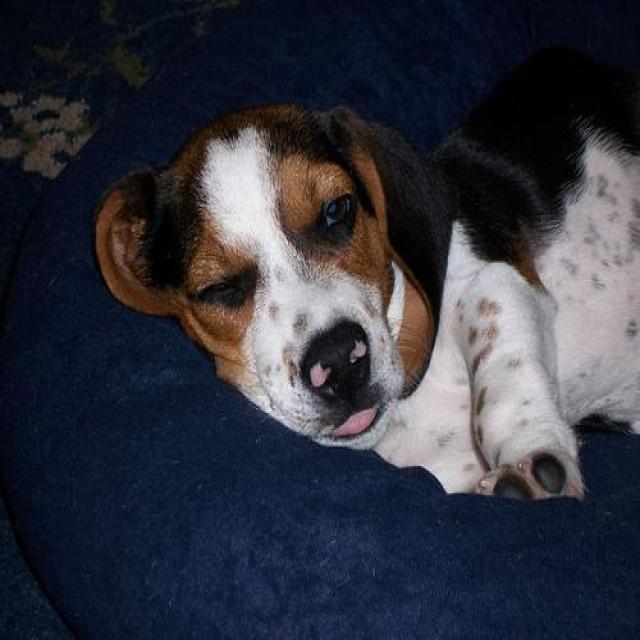beagle: (86, 37, 636, 507)
